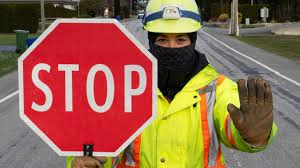stop sign: (18, 17, 159, 157)
